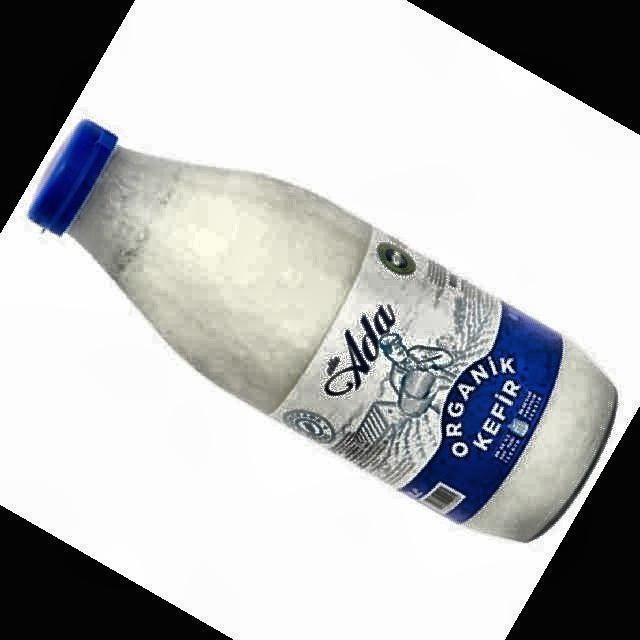plastic: (29, 120, 615, 541)
